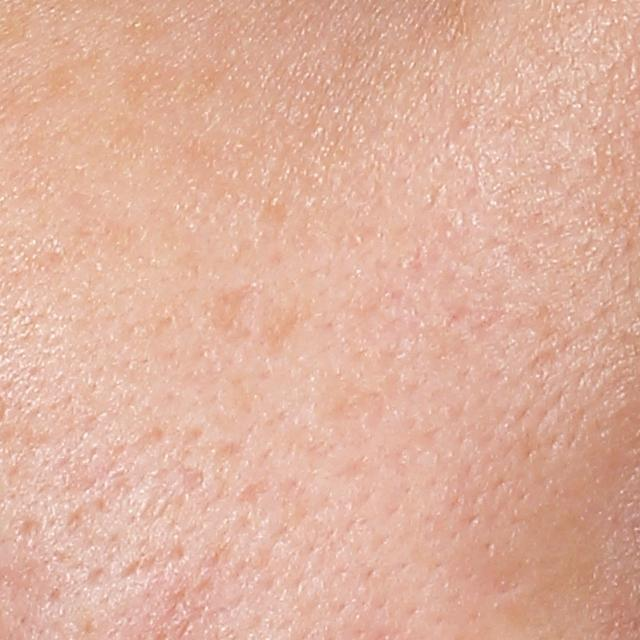atrophic_scar: (205, 282, 255, 356)
melasma: (115, 10, 254, 119), (1, 45, 120, 121)
